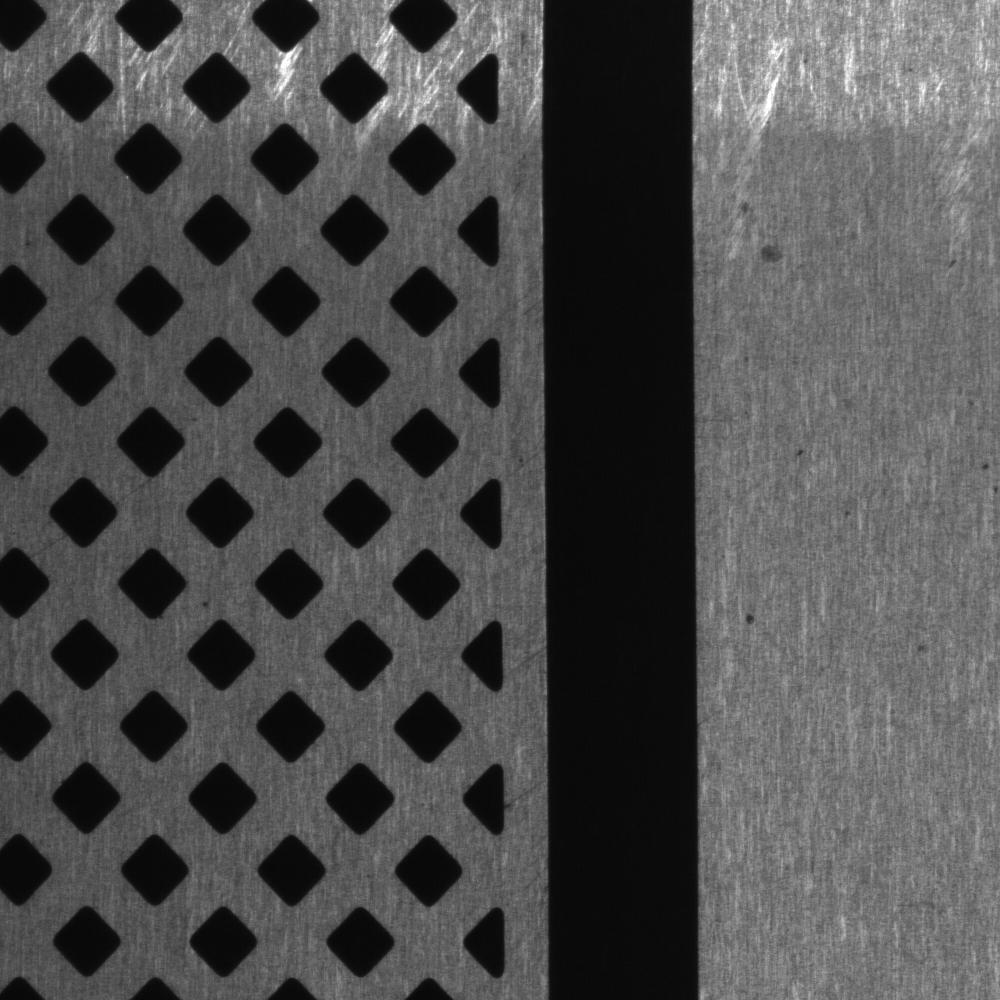Discolor: (746, 223, 789, 285)
Etching: (971, 439, 998, 507)
Pinhole: (726, 598, 779, 638)
Scar: (468, 535, 550, 596), (699, 684, 776, 738), (506, 433, 542, 492), (503, 639, 547, 687), (504, 769, 546, 816), (111, 473, 154, 505), (24, 533, 68, 563)
